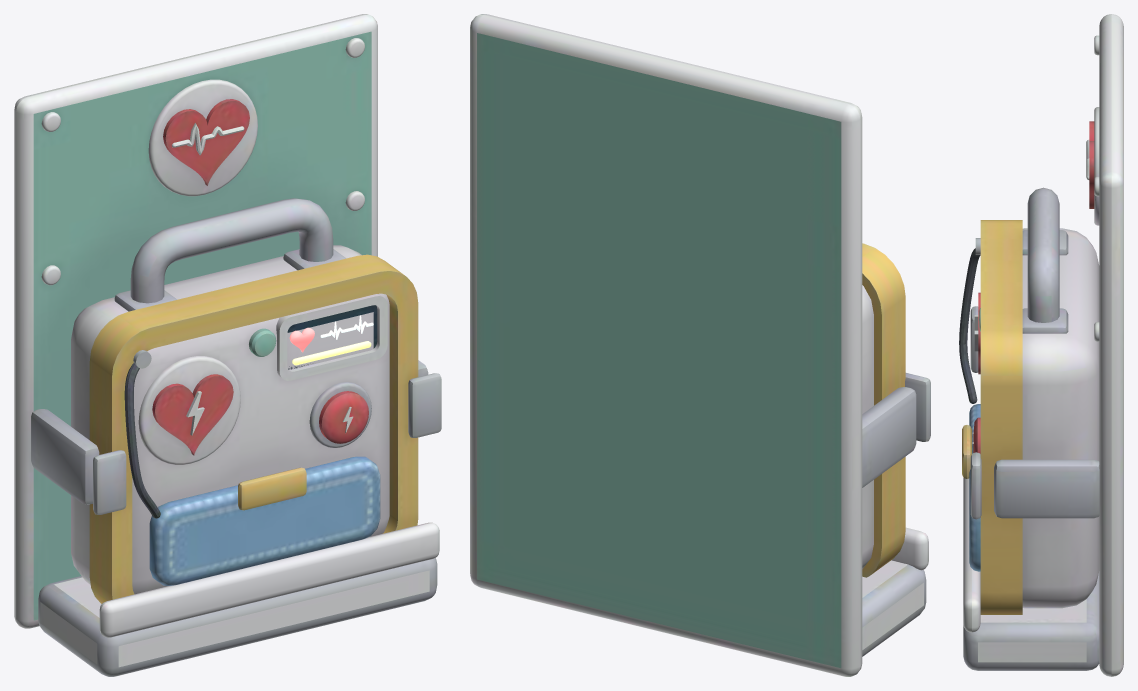
File: medical-defibrillator.glb
The picture shows the model from 3 angles, left to right: view 1: azimuth 30°, elevation 25°; view 2: azimuth 150°, elevation 25°; view 3: azimuth 270°, elevation 25°; orthographic projection. The views are drawn at different scales.
Parts seen in each view (by area): view 1: defibrillator_body, defibrillator_display_glow; view 2: defibrillator_body; view 3: defibrillator_body.
Boxes of the visible parts, box(x1,y1,x2,y2) form: defibrillator_body: box(14, 14, 441, 676); defibrillator_display_glow: box(289, 315, 373, 365); defibrillator_body: box(470, 14, 930, 676); defibrillator_body: box(959, 14, 1123, 676).
Size of the model in its own units: 0.32 by 0.45 by 0.1334.
Materials: 4 (1 with a texture image).
